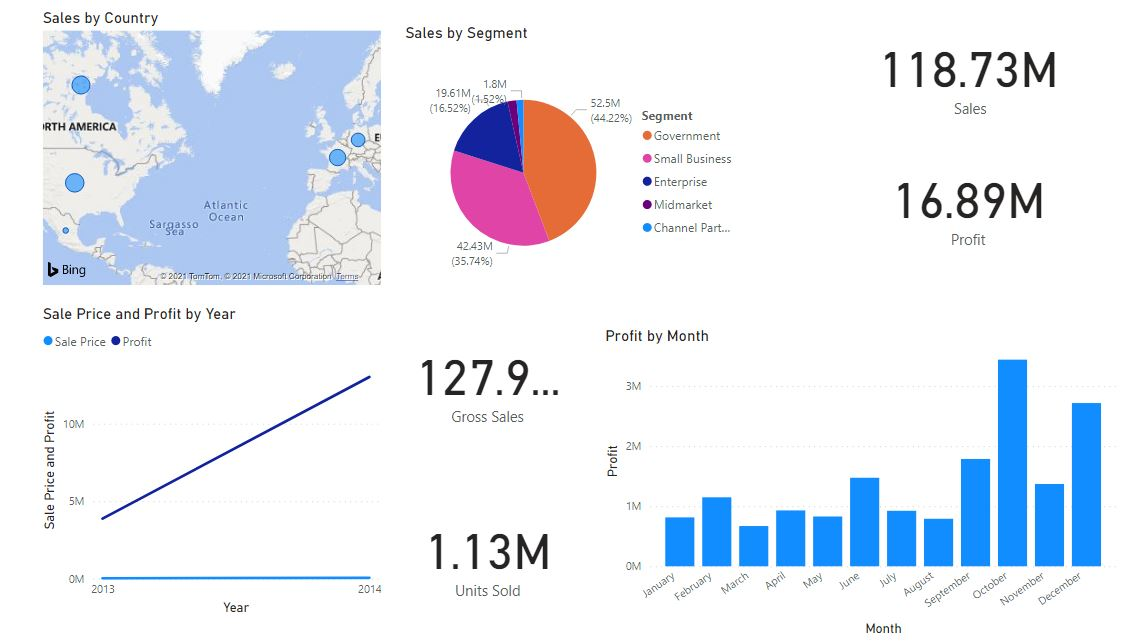

The page's visual inventory and layout, read from the dashboard file:
{"tool":"powerbi","page":{"name":"Page 1","canvas":[1280,720],"ordinal":0},"visuals":[{"type":"map","fields":{"Category":["Sheet1.Country"],"Size":["Sum(Sheet1. Sales)"]},"box":[50.8,24.7,381.8,309],"z":0},{"type":"pieChart","fields":{"Category":["Sheet1.Segment"],"Y":["Sum(Sheet1. Sales)"]},"box":[449.1,41.2,381.8,309],"z":1},{"type":"card","fields":{"Values":["Sum(Sheet1. Sales)"]},"box":[881.7,41.2,381.8,109.9],"z":2},{"type":"card","fields":{"Values":["Sum(Sheet1.Profit)"]},"box":[881.7,179.9,381.8,119.5],"z":3},{"type":"clusteredColumnChart","fields":{"Category":["Sheet1.Date.Variation.Date Hierarchy.Year","Sheet1.Date.Variation.Date Hierarchy.Quarter","Sheet1.Date.Variation.Date Hierarchy.Month","Sheet1.Date.Variation.Date Hierarchy.Day"],"Y":["Sum(Sheet1.Profit)"]},"box":[668.8,373.6,571.3,346.1],"z":4},{"type":"lineChart","fields":{"Y":["Sum(Sheet1.Sale Price)","Sum(Sheet1.Profit)"],"Category":["Sheet1.Date.Variation.Date Hierarchy.Year","Sheet1.Date.Variation.Date Hierarchy.Quarter","Sheet1.Date.Variation.Date Hierarchy.Month","Sheet1.Date.Variation.Date Hierarchy.Day"]},"box":[50.8,350.2,381.8,346.1],"z":5},{"type":"card","fields":{"Values":["Sum(Sheet1.Gross Sales)"]},"box":[449.1,359.8,190.9,149.7],"z":6},{"type":"card","fields":{"Values":["Sum(Sheet1.Units Sold)"]},"box":[449,551,191,150],"z":7}]}

Visuals, with their boxes in screenshot pixels (x1, y1, x2, y2), scaled from the page's 1280x720 canvas onto the 1144x641 screenshot:
map - Sheet1.Country x Sum(Sheet1. Sales): {"left": 45, "top": 22, "right": 387, "bottom": 297}
pieChart - Sheet1.Segment x Sum(Sheet1. Sales): {"left": 401, "top": 37, "right": 743, "bottom": 312}
card - Sum(Sheet1. Sales): {"left": 788, "top": 37, "right": 1129, "bottom": 135}
card - Sum(Sheet1.Profit): {"left": 788, "top": 160, "right": 1129, "bottom": 267}
clusteredColumnChart - Sheet1.Date.Variation.Date Hierarchy.Year x Sheet1.Date.Variation.Date Hierarchy.Quarter: {"left": 598, "top": 333, "right": 1108, "bottom": 640}
lineChart - Sum(Sheet1.Sale Price) x Sum(Sheet1.Profit): {"left": 45, "top": 312, "right": 387, "bottom": 620}
card - Sum(Sheet1.Gross Sales): {"left": 401, "top": 320, "right": 572, "bottom": 454}
card - Sum(Sheet1.Units Sold): {"left": 401, "top": 491, "right": 572, "bottom": 624}
